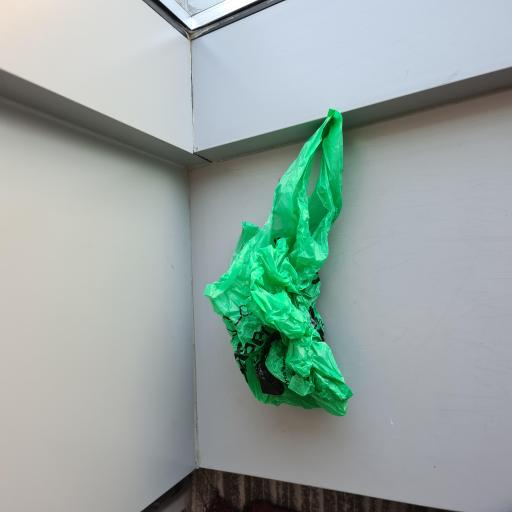plastic bag: (202, 104, 353, 416)
